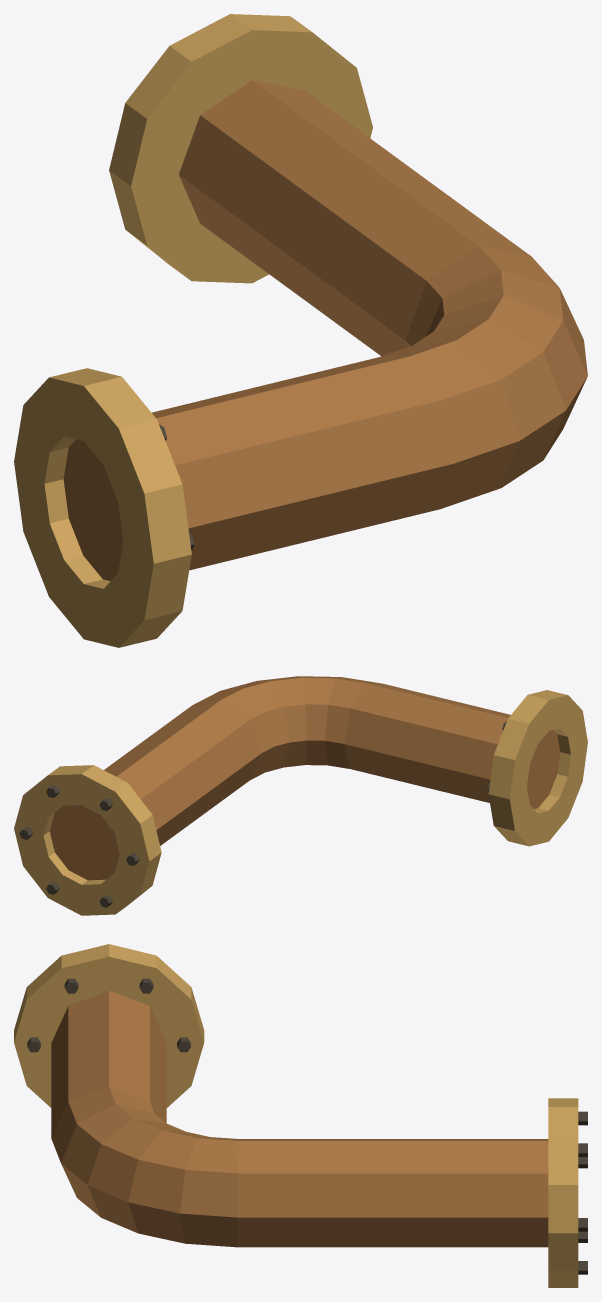
File: pipe_run_09.glb
The picture shows the model from 3 angles, top to bottom: view 1: azimuth 30°, elevation 25°; view 2: azimuth 150°, elevation 25°; view 3: azimuth 270°, elevation 25°; orthographic projection. The views are drawn at different scales.
Visible parts, largest first — view 1: Swept_pipe, End_0_Flange, End_1_Flange; view 2: Swept_pipe, End_1_Flange, End_0_Flange, End_1; view 3: Swept_pipe, End_0_Flange, End_1_Flange, End_1, End_0.
Boxes of the visible parts, left/top/right/bottom form: Swept_pipe: left=63, top=80, right=587, bottom=581; End_0_Flange: left=14, top=368, right=191, bottom=647; End_1_Flange: left=109, top=14, right=372, bottom=283; Swept_pipe: left=49, top=676, right=560, bottom=880; End_1_Flange: left=14, top=765, right=161, bottom=915; End_0_Flange: left=488, top=690, right=587, bottom=846; End_1: left=19, top=785, right=139, bottom=907; Swept_pipe: left=51, top=990, right=548, bottom=1247; End_0_Flange: left=14, top=944, right=204, bottom=1107; End_1_Flange: left=548, top=1098, right=578, bottom=1287; End_1: left=578, top=1111, right=587, bottom=1274; End_0: left=27, top=978, right=190, bottom=1052.
Bounding box in the file's own units: 1.08 × 0.429 × 1.29.
